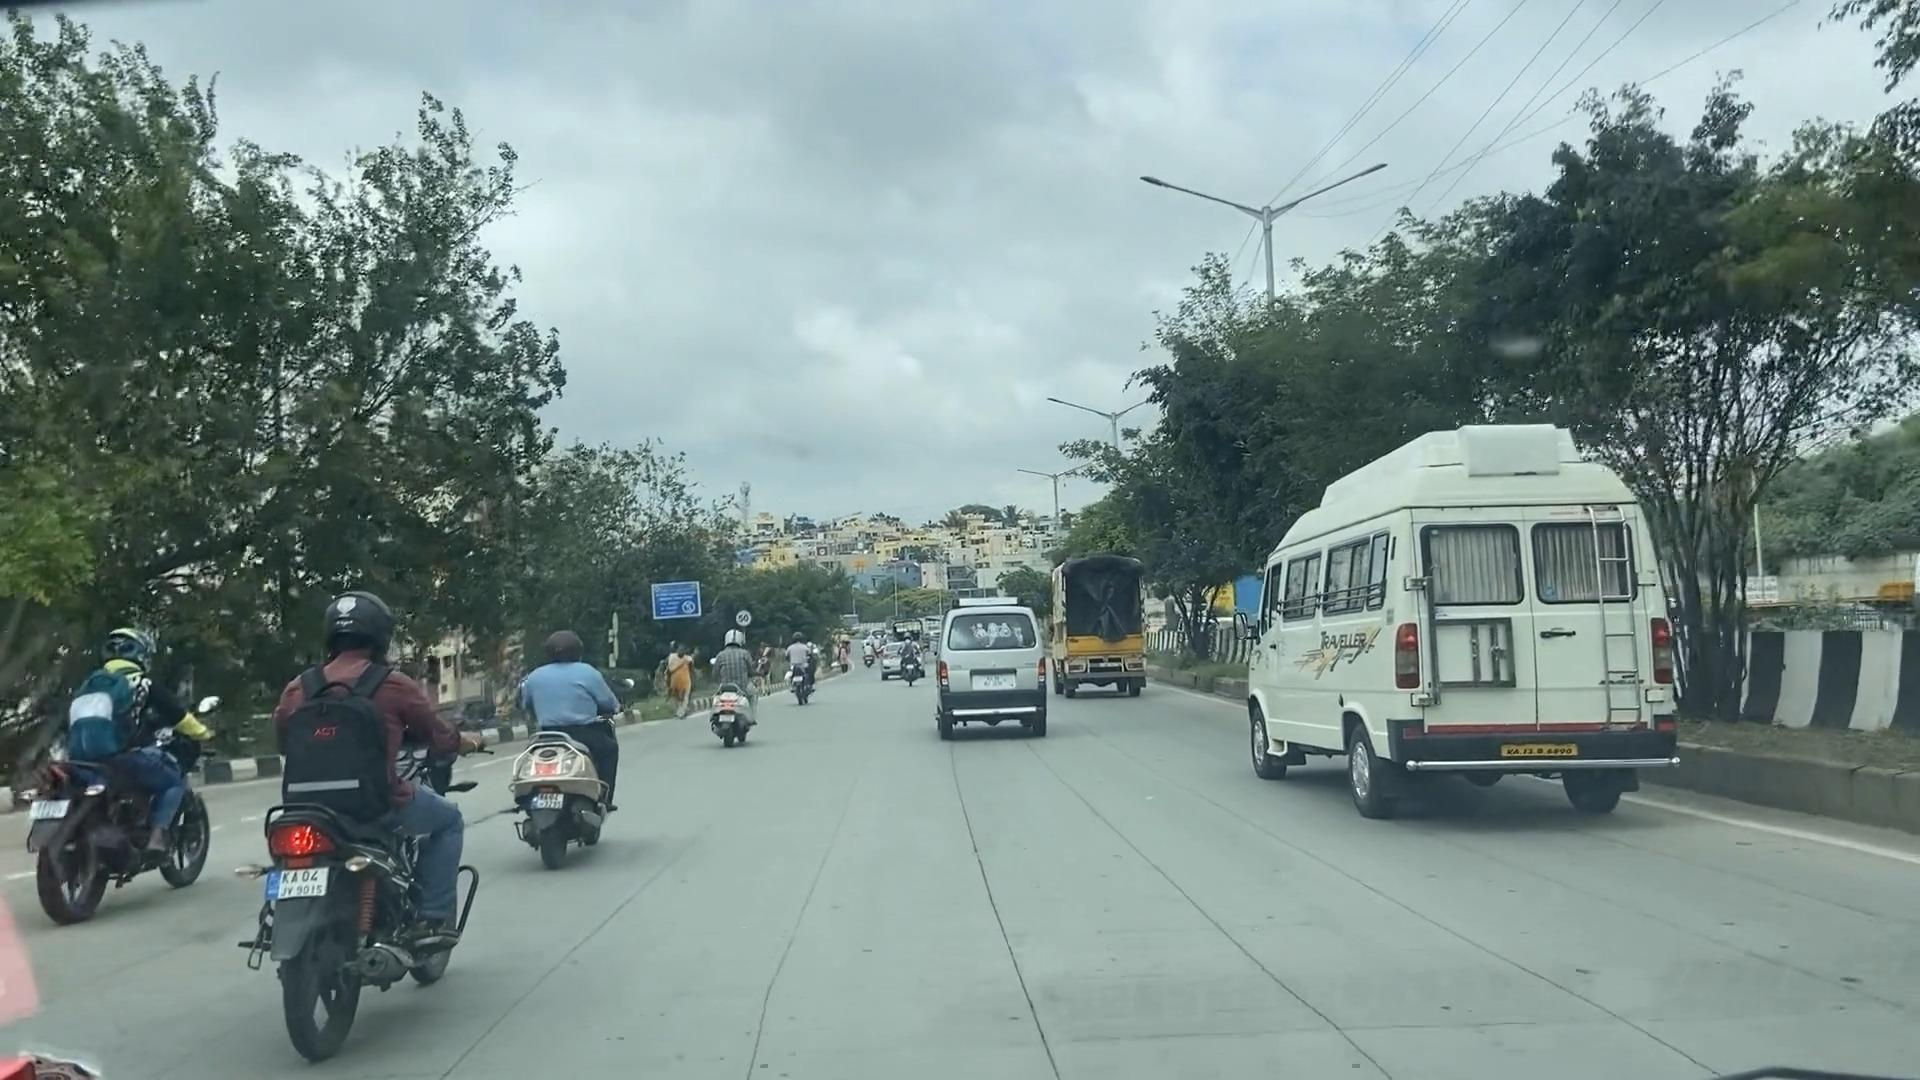HMV: (1230, 468, 1689, 840), (1046, 550, 1171, 708)
LMV: (231, 568, 467, 1013), (30, 621, 207, 893), (505, 638, 645, 844), (926, 603, 1062, 732), (695, 638, 757, 728)
